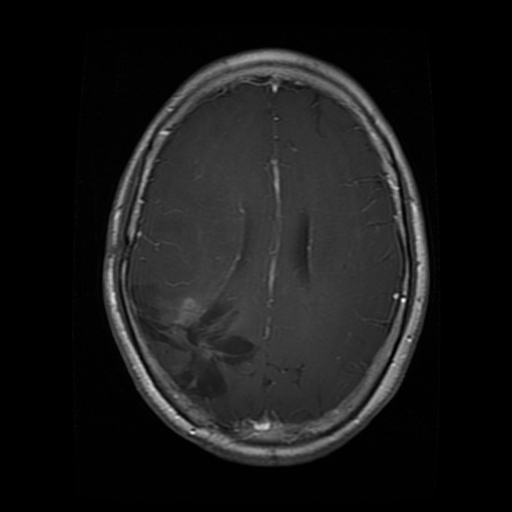glioma: (126, 281, 258, 399)
